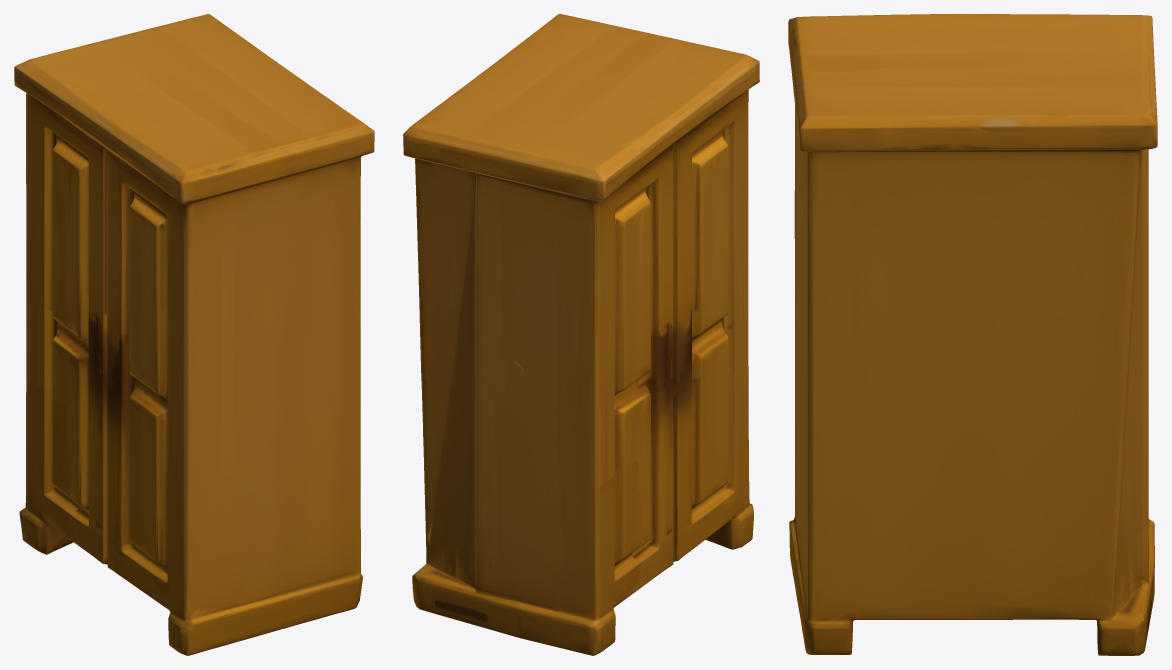
The model's file is wardrobe.fbx.
The picture shows the model from 3 angles, left to right: view 1: azimuth 30°, elevation 25°; view 2: azimuth 150°, elevation 25°; view 3: azimuth 270°, elevation 25°; orthographic projection. The views are drawn at different scales.
Parts seen in each view (by area): view 1: node_0.002; view 2: node_0.002; view 3: node_0.002.
Part boxes in pixels (x1=…): node_0.002: x1=14, y1=14, x2=374, y2=655; node_0.002: x1=403, y1=14, x2=759, y2=655; node_0.002: x1=788, y1=14, x2=1157, y2=655.
Size of the model in its own units: 0.1451 by 0.3264 by 0.2014.
1 material, 1 textured.
